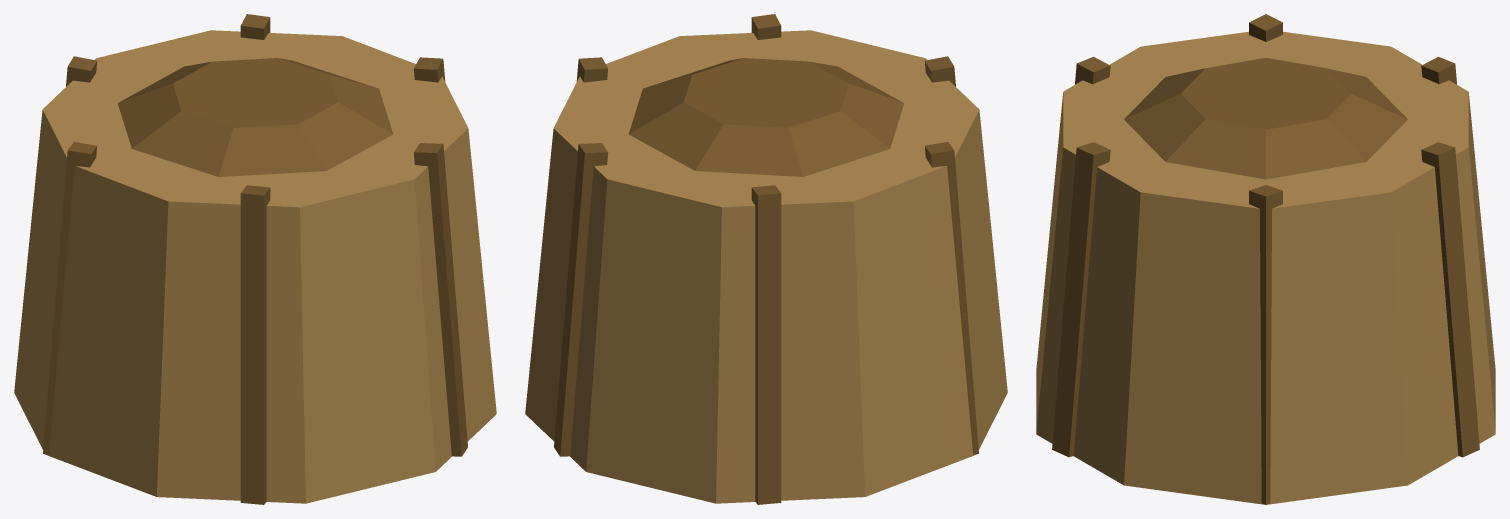
File: drop_lobster_pot.glb
3 views of the same model, side by side, from view 1: azimuth 30°, elevation 25°; view 2: azimuth 150°, elevation 25°; view 3: azimuth 270°, elevation 25° (orthographic).
Visible parts, largest first — view 1: drop_lobster_pot; view 2: drop_lobster_pot; view 3: drop_lobster_pot.
Part boxes in pixels (x1=…): drop_lobster_pot: x1=14, y1=14, x2=496, y2=504; drop_lobster_pot: x1=525, y1=14, x2=1007, y2=504; drop_lobster_pot: x1=1036, y1=14, x2=1495, y2=504.
Size of the model in its own units: 0.3439 by 0.241 by 0.3234.
